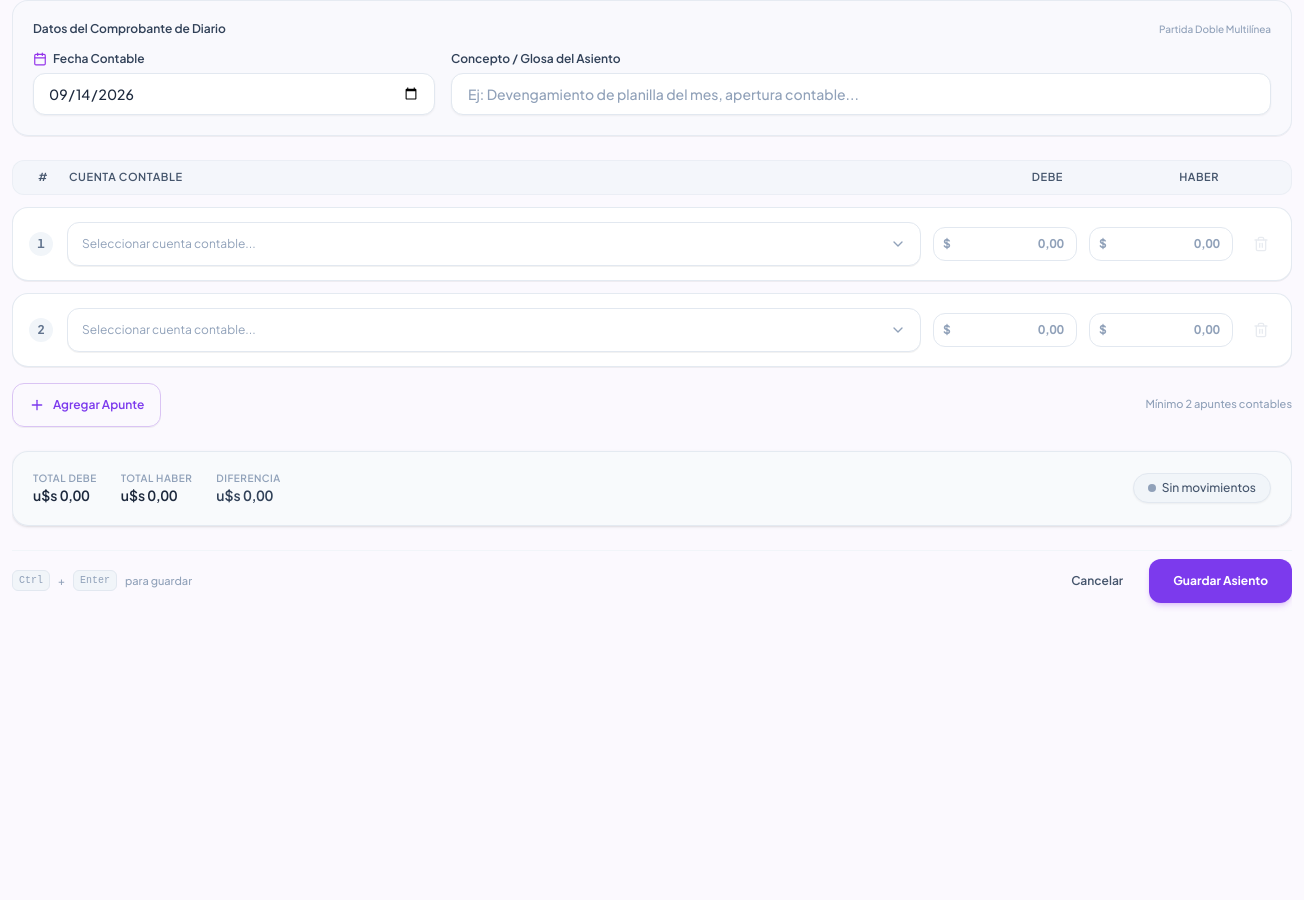
it: User Story 2: Free Journal Entry Grid (T011) › 2. FreeJournalEntryGrid Component (T013) › multi-line residual auto-fill when Credits exceed Debits: Line 1 Credit = 200, Line 2 Debit = 50 -> Line 3 Debit = 150
This screenshot has width=1304, height=900.
Step 1. Type "200" into the field named "haber" → (1161, 244), box 1089,226 -> 1233,260
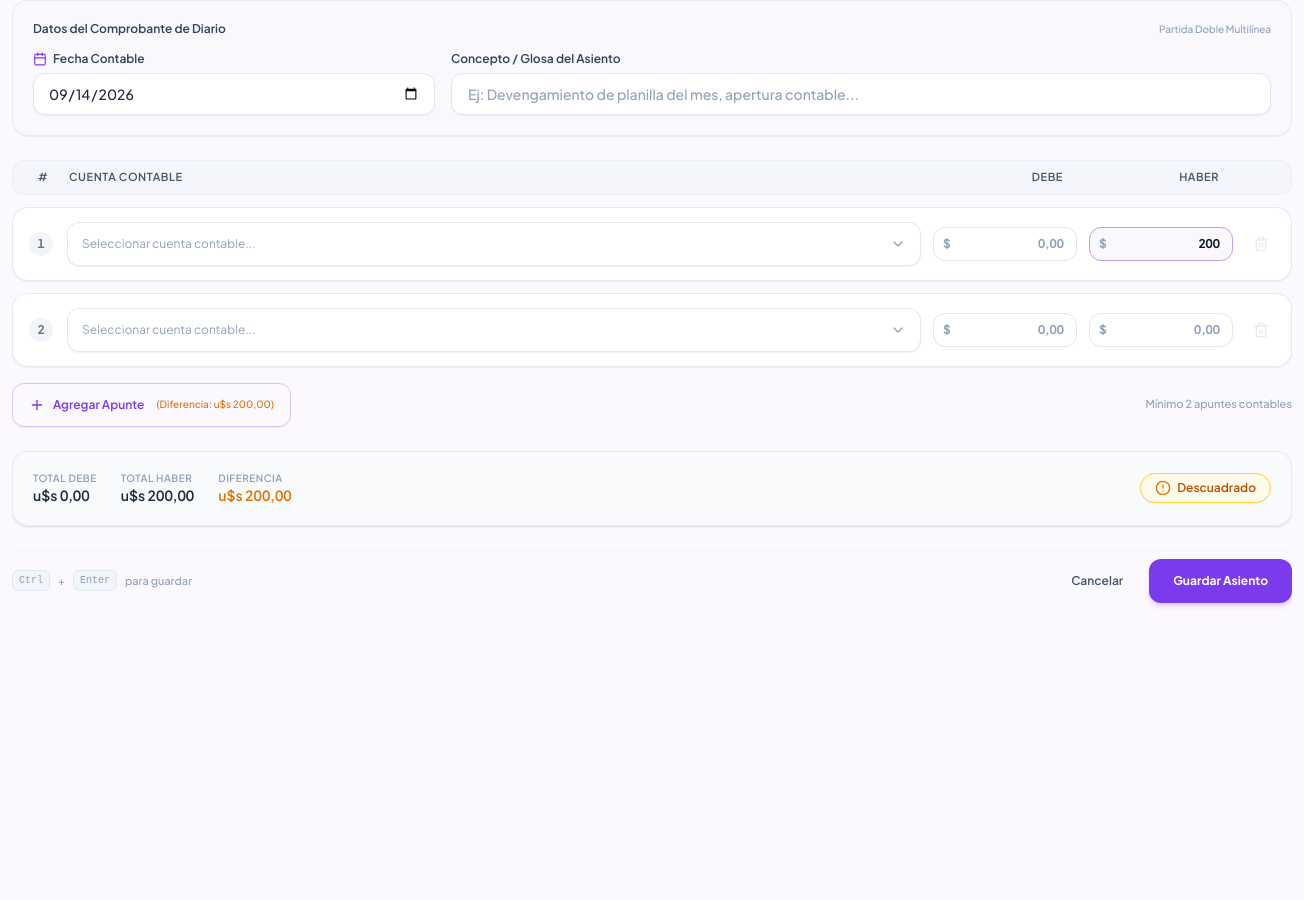
Step 2. Type "50" into the field named "debe" → (1005, 330), box 933,312 -> 1077,346
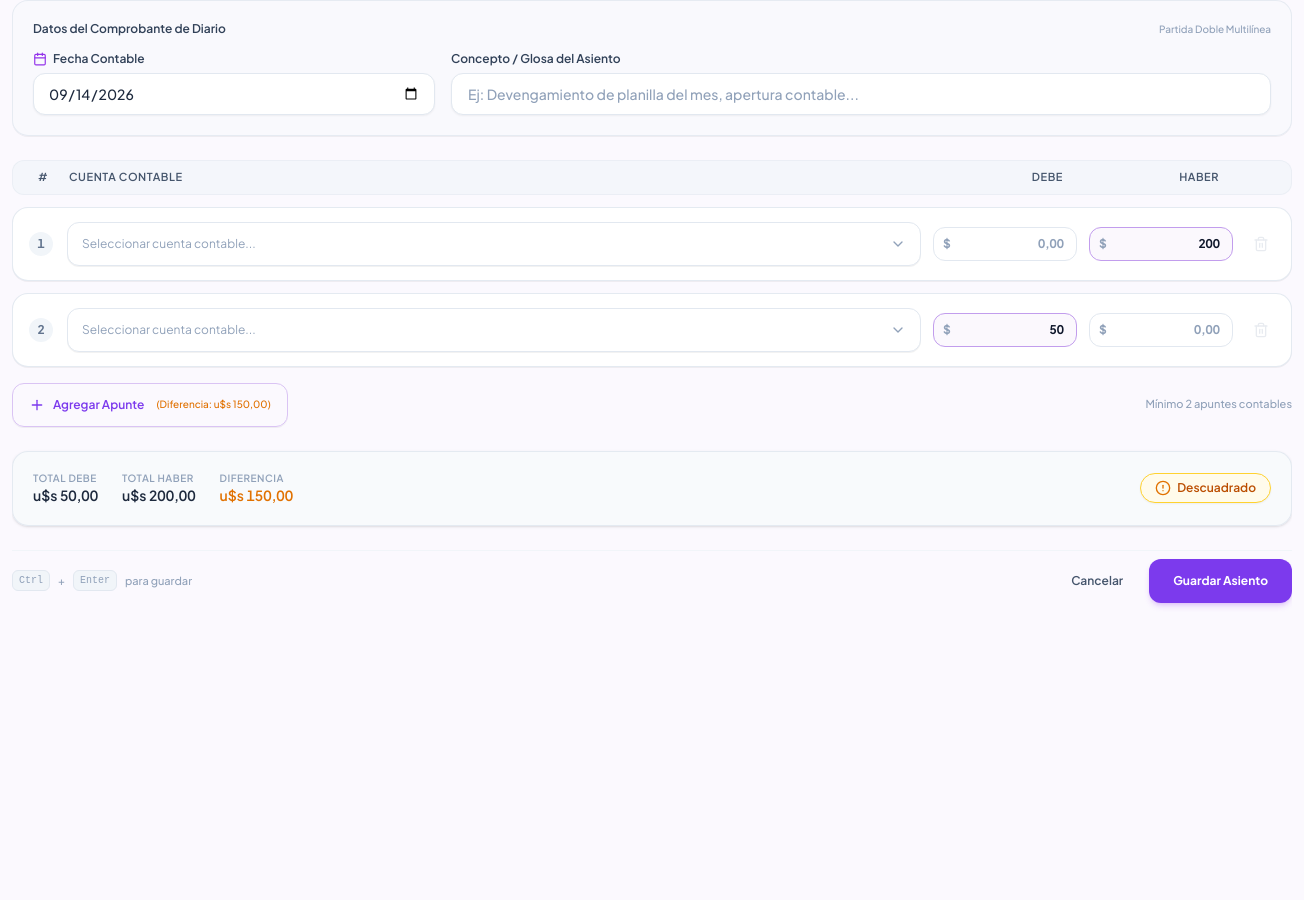
Step 3. Click the button "Agregar Apunte (Diferencia: u$s 150,00)" → (99, 404), box 12,382 -> 288,426
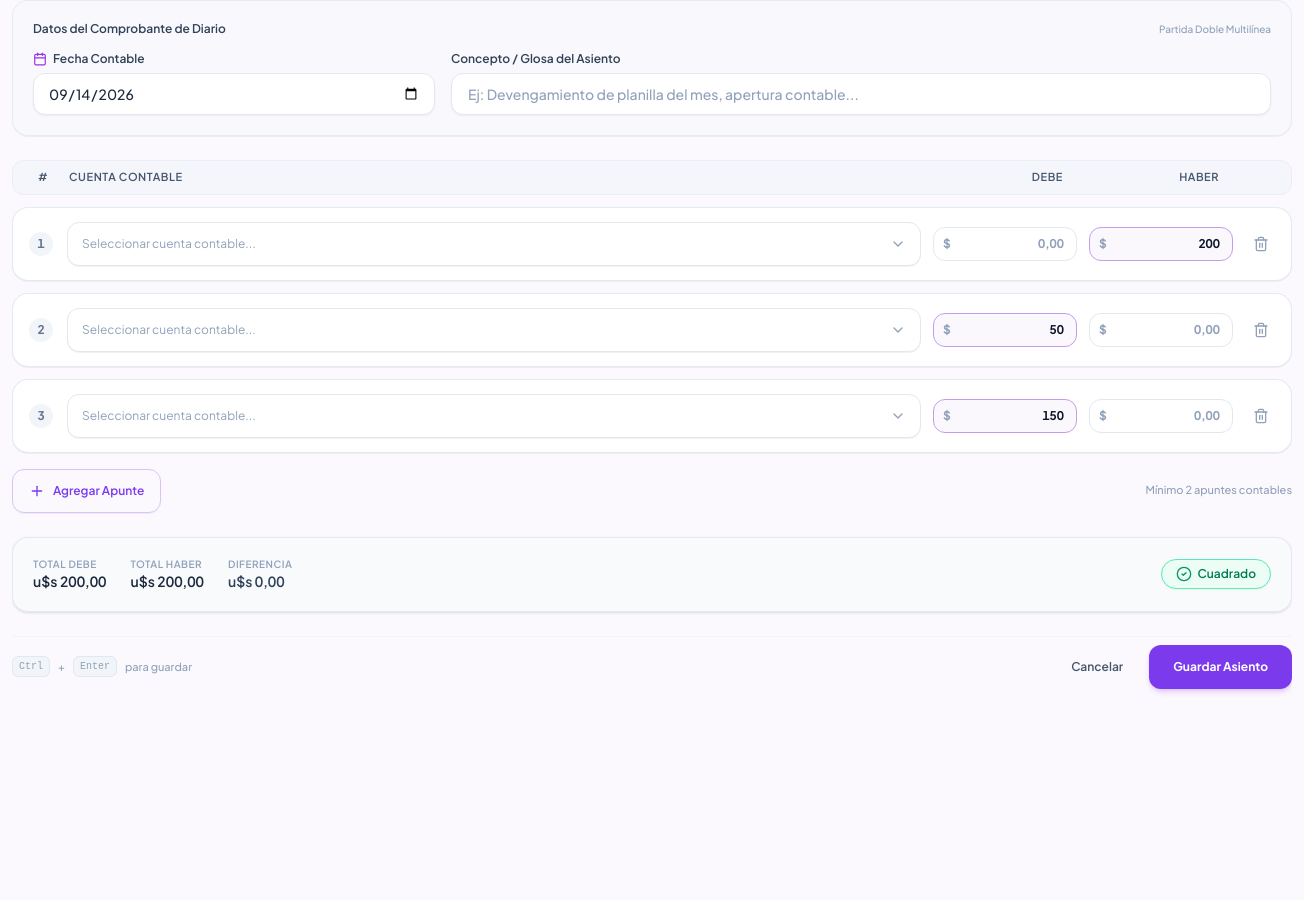
Result: the number of fields named "debe" is 3 at 933,226 -> 1077,260; 933,312 -> 1077,346; 933,398 -> 1077,432
Result: the 2nd field named "debe" holds "150" at 933,398 -> 1077,432
